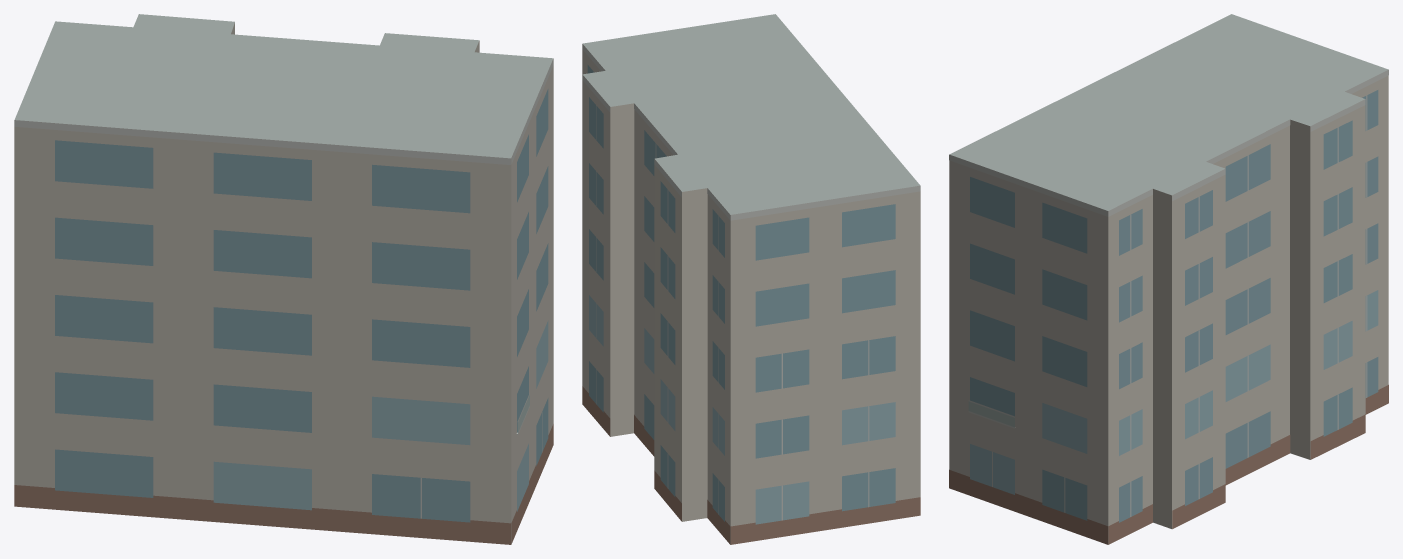
Rendered from survey-upis-32747657.glb.
3 views of the same model, side by side, from view 1: azimuth 30°, elevation 25°; view 2: azimuth 150°, elevation 25°; view 3: azimuth 270°, elevation 25° (orthographic). The views are drawn at different scales.
Visible parts, largest first — view 1: survey-upis-32747657.tmp; view 2: survey-upis-32747657.tmp; view 3: survey-upis-32747657.tmp.
Boxes of the visible parts, left/top/right/bottom form: survey-upis-32747657.tmp: left=14, top=14, right=553, bottom=544; survey-upis-32747657.tmp: left=582, top=14, right=920, bottom=544; survey-upis-32747657.tmp: left=949, top=14, right=1388, bottom=544.
Bounding box in the file's own units: 17.61 × 13.9 × 16.59.
